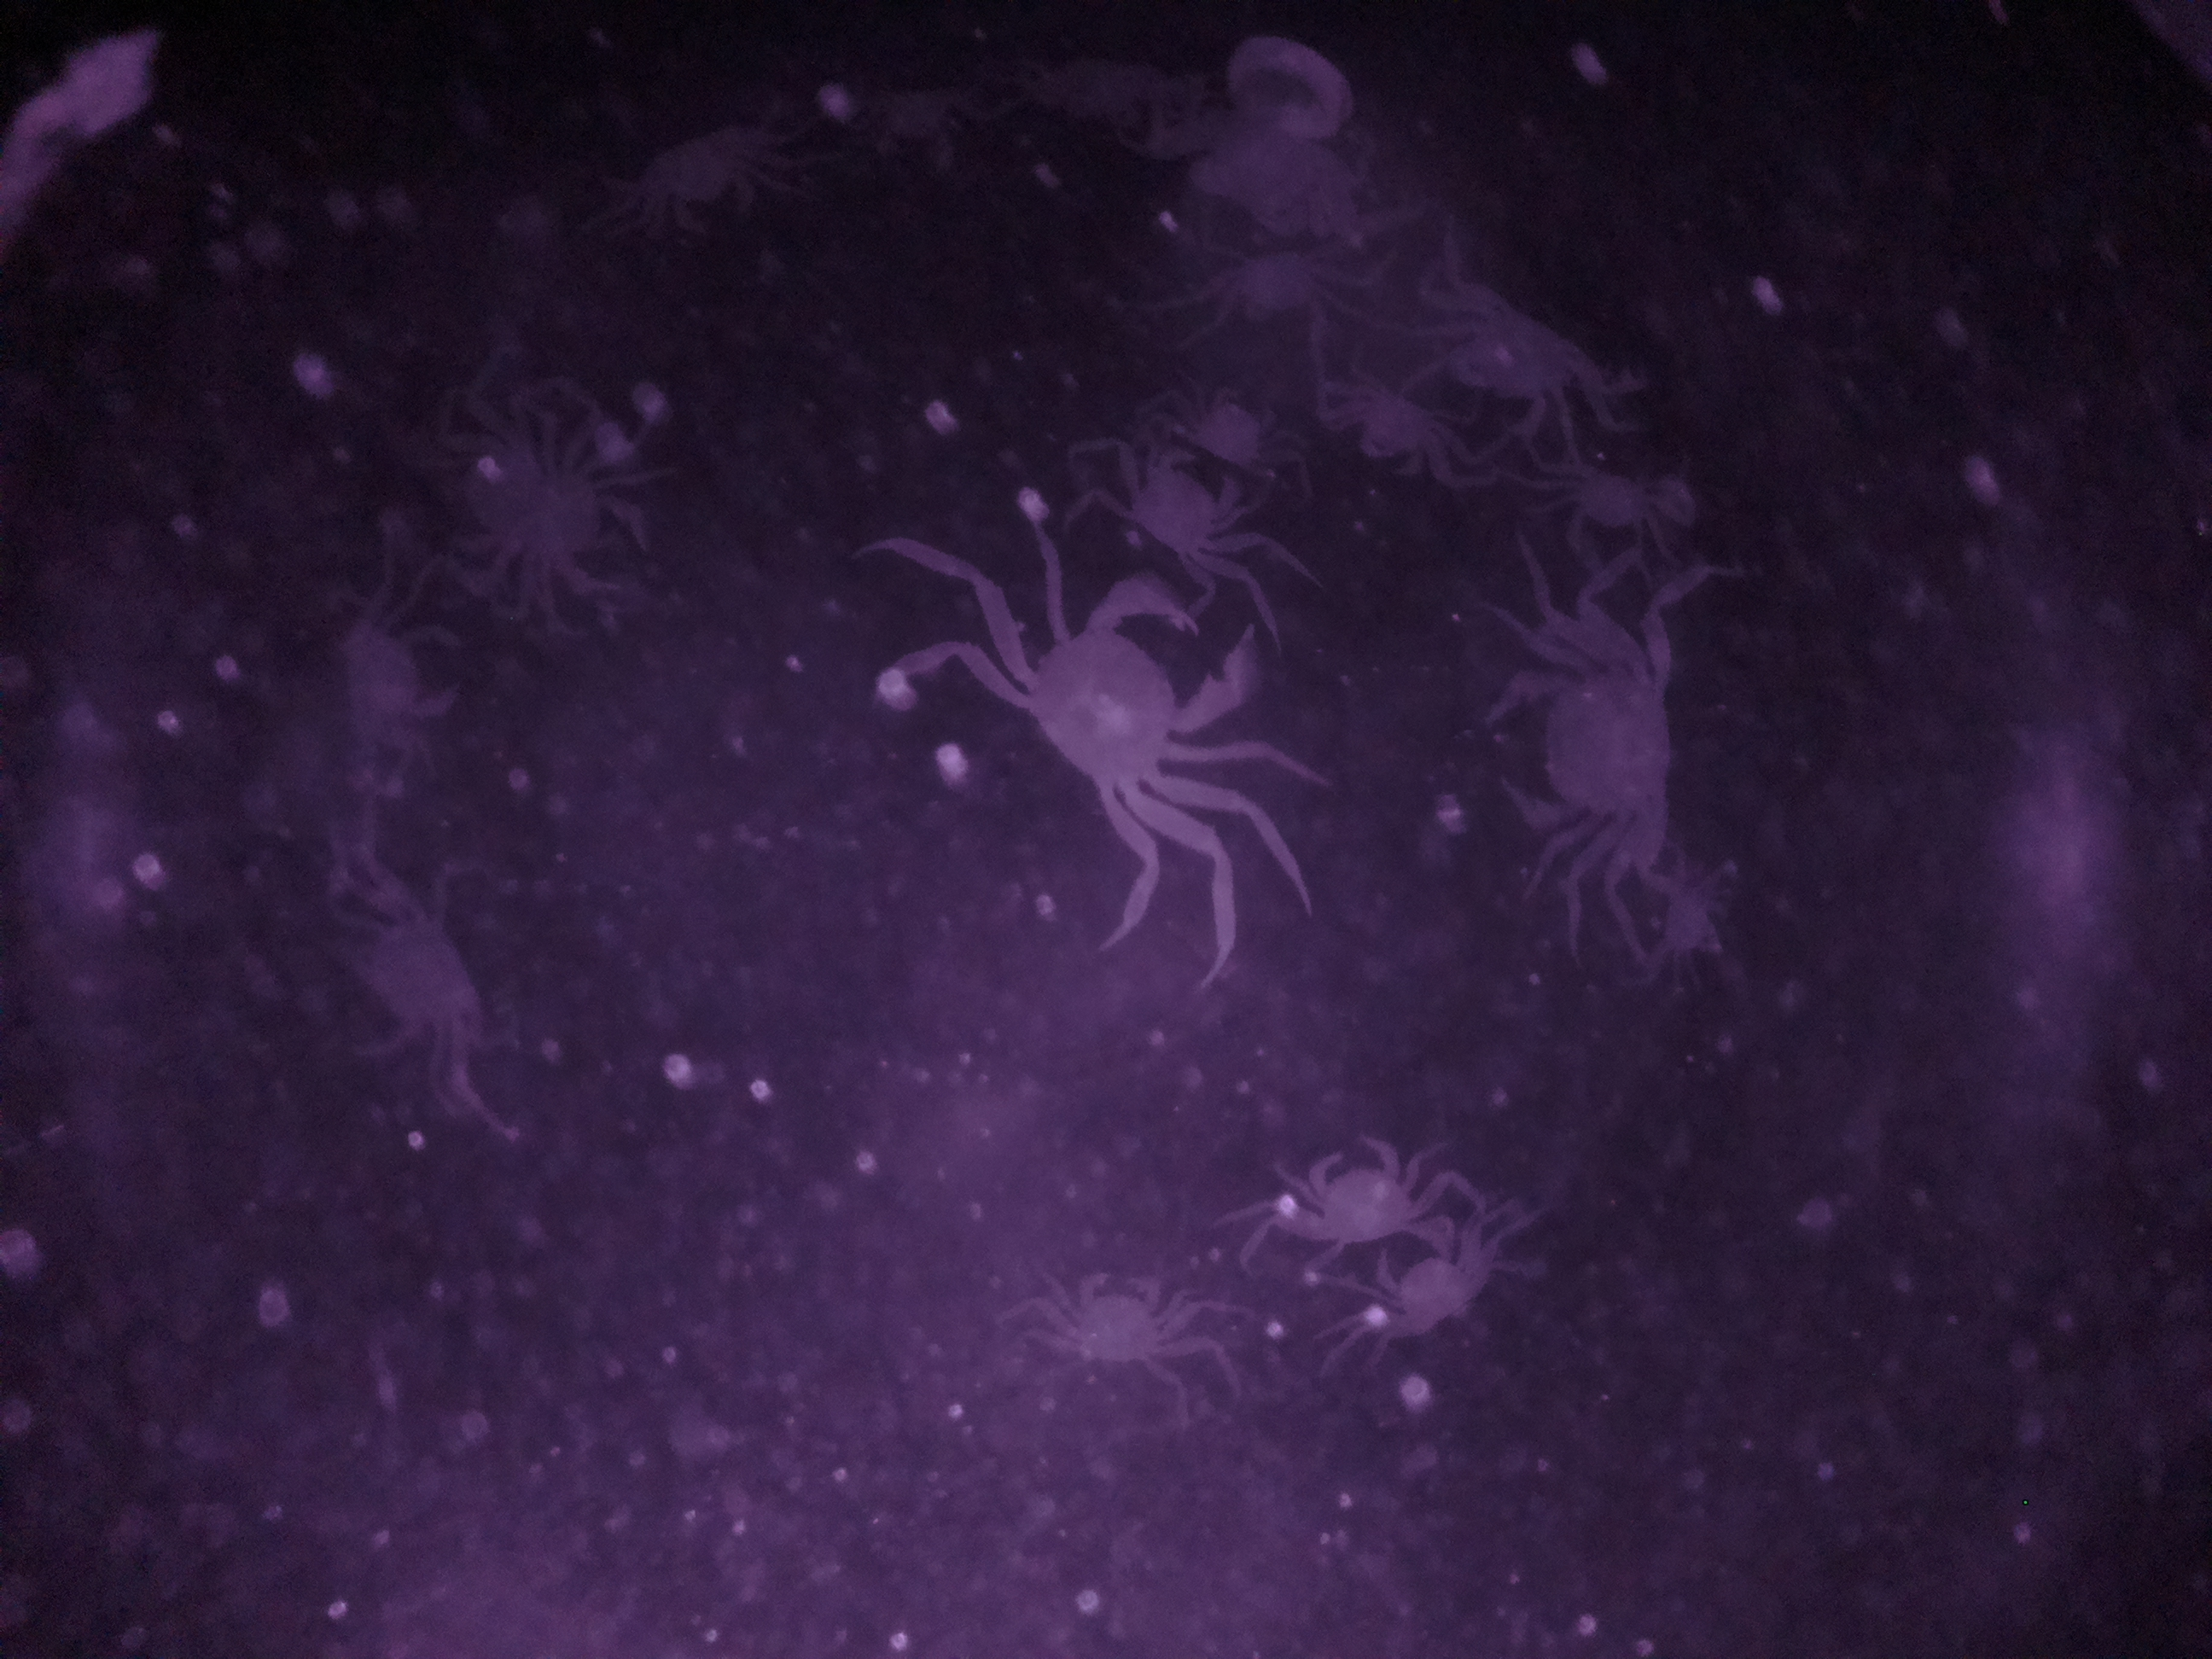Crab: (1005, 575, 1259, 836), (1482, 633, 1696, 866), (1096, 425, 1259, 566), (1273, 1127, 1437, 1265), (1339, 1220, 1494, 1351), (629, 122, 777, 247), (1054, 1262, 1200, 1382)
